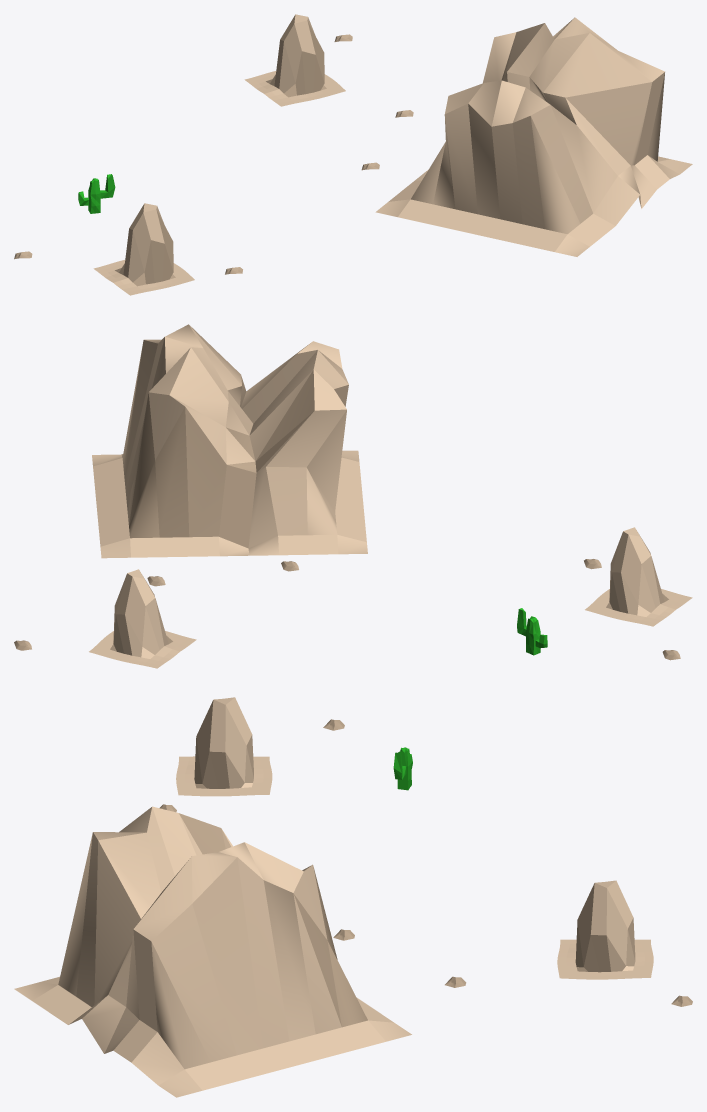
The model's file is desertStuff.fbx.
The picture shows the model from 3 angles, top to bottom: view 1: azimuth 30°, elevation 25°; view 2: azimuth 150°, elevation 25°; view 3: azimuth 270°, elevation 25°; orthographic projection. The views are drawn at different scales.
Parts seen in each view (by area): view 1: desertBigRock, desertRock, desertRock1, desertCact; view 2: desertBigRock, desertRock1, desertRock, desertCact; view 3: desertBigRock, desertRock1, desertRock, desertCact.
Boxes of the visible parts, bbox=[...] form: desertBigRock: bbox=[375, 17, 692, 256]; desertRock: bbox=[93, 203, 194, 295]; desertRock1: bbox=[244, 14, 345, 106]; desertCact: bbox=[78, 174, 115, 213]; desertBigRock: bbox=[92, 324, 367, 558]; desertRock1: bbox=[89, 569, 196, 668]; desertRock: bbox=[585, 527, 692, 626]; desertCact: bbox=[517, 608, 547, 655]; desertBigRock: bbox=[14, 806, 411, 1097]; desertRock1: bbox=[557, 880, 653, 979]; desertRock: bbox=[176, 697, 272, 796]; desertCact: bbox=[393, 747, 412, 790].
Bounding box in the file's own units: 171 × 41.38 × 134.
